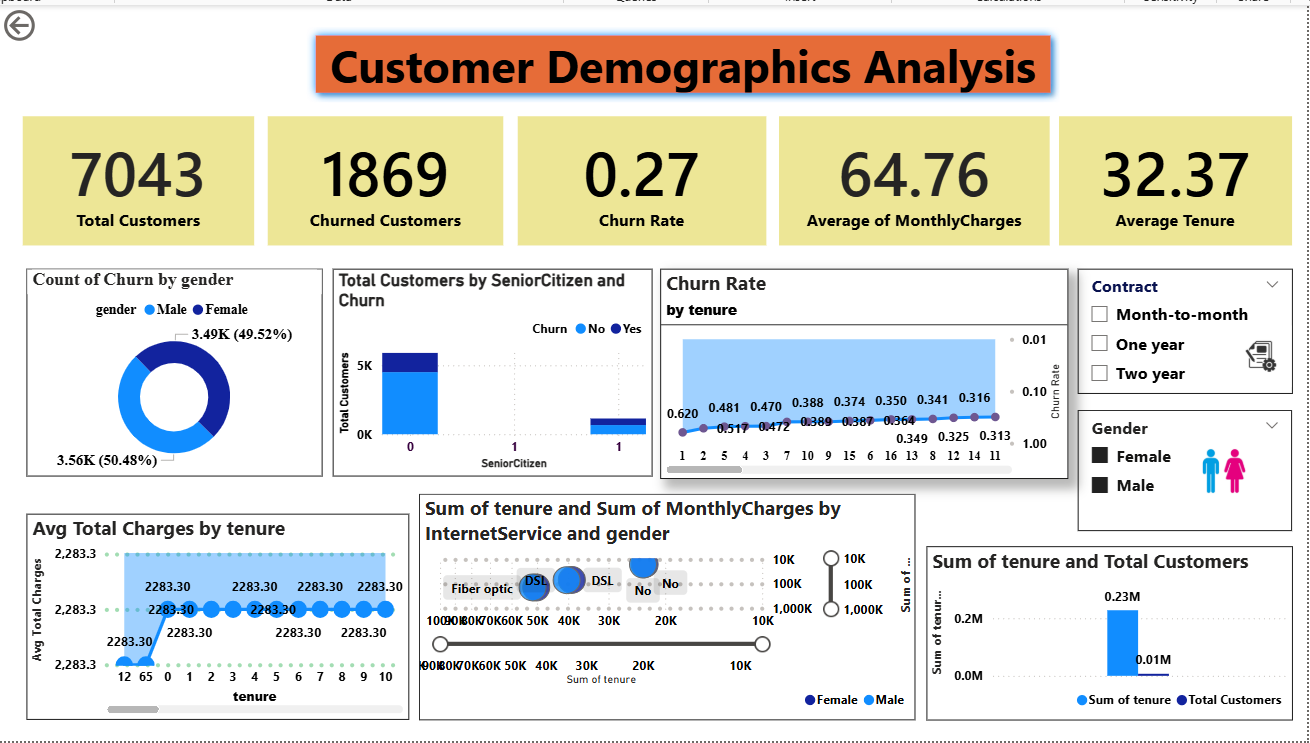

Layout of this report page (visuals, bound fields, positions):
{"tool":"powerbi","page":{"name":"Customer Demographics Analysis","canvas":[1280,720],"ordinal":0},"visuals":[{"type":"actionButton","box":[0,0,100,40],"z":0},{"type":"card","fields":{"Values":["WA_Fn-UseC_-Telco-Customer-Churn.Churned Customers"]},"box":[263.5,108.4,230.5,126.2],"z":1000},{"type":"card","fields":{"Values":["WA_Fn-UseC_-Telco-Customer-Churn.Total Customers"]},"box":[23.3,108.4,226.4,126.2],"z":2000},{"type":"card","fields":{"Values":["WA_Fn-UseC_-Telco-Customer-Churn.Churn Rate"]},"box":[507.7,108.4,242.9,126.2],"z":3000},{"type":"donutChart","fields":{"Category":["WA_Fn-UseC_-Telco-Customer-Churn.gender"],"Y":["CountNonNull(WA_Fn-UseC_-Telco-Customer-Churn.Churn)"]},"box":[27.4,258,289.5,203.1],"z":4000},{"type":"columnChart","fields":{"Category":["WA_Fn-UseC_-Telco-Customer-Churn.SeniorCitizen"],"Series":["WA_Fn-UseC_-Telco-Customer-Churn.Churn"],"Y":["WA_Fn-UseC_-Telco-Customer-Churn.Total Customers"]},"box":[326.6,258,312.9,203.1],"z":5000},{"type":"slicer","fields":{"Values":["WA_Fn-UseC_-Telco-Customer-Churn.gender"]},"box":[1055.2,396.6,209.9,118],"z":6000},{"type":"slicer","fields":{"Values":["WA_Fn-UseC_-Telco-Customer-Churn.Contract"]},"box":[1055.3,258,210.3,122.3],"z":7000},{"type":"clusteredColumnChart","fields":{"Y":["Sum(WA_Fn-UseC_-Telco-Customer-Churn.tenure)","WA_Fn-UseC_-Telco-Customer-Churn.Total Customers"]},"box":[907,529.7,358.1,170.2],"z":8000},{"type":"lineChart","fields":{"Category":["WA_Fn-UseC_-Telco-Customer-Churn.tenure"],"Y2":["WA_Fn-UseC_-Telco-Customer-Churn.Churn Rate"]},"box":[646.3,258,399.3,205.8],"z":9000},{"type":"lineChart","fields":{"Category":["WA_Fn-UseC_-Telco-Customer-Churn.tenure"],"Y":["Avg(WA_Fn-UseC_-Telco-Customer-Churn.Avg Total Charges)"]},"box":[27.4,498.1,374.6,201.7],"z":10000},{"type":"scatterChart","fields":{"X":["Sum(WA_Fn-UseC_-Telco-Customer-Churn.tenure)"],"Y":["Sum(WA_Fn-UseC_-Telco-Customer-Churn.MonthlyCharges)"],"Series":["WA_Fn-UseC_-Telco-Customer-Churn.gender"],"Category":["WA_Fn-UseC_-Telco-Customer-Churn.InternetService"]},"box":[410.9,478.1,485.5,221.3],"z":11000},{"type":"card","fields":{"Values":["Avg(WA_Fn-UseC_-Telco-Customer-Churn.MonthlyCharges)"]},"box":[763,108.4,264.8,126.2],"z":12000},{"type":"card","fields":{"Values":["WA_Fn-UseC_-Telco-Customer-Churn.Average Tenure"]},"box":[1037.4,108.4,227.8,126.2],"z":13000},{"type":"shape","box":[300.5,20.6,736.9,74.1],"z":14000},{"type":"image","box":[1159.5,422.6,78.2,65.9],"z":15000},{"type":"image","box":[1199.3,308.7,70,71.4],"z":16000}]}

Visuals, with their boxes on the page's 1280x720 design canvas (x1, y1, x2, y2). These are canvas units, not pixel positions in the 1310x743 screenshot, which may show the page scaled, cropped or inside an application window:
actionButton: [left=0, top=0, right=100, bottom=40]
card - WA_Fn-UseC_-Telco-Customer-Churn.Churned Customers: [left=264, top=108, right=494, bottom=235]
card - WA_Fn-UseC_-Telco-Customer-Churn.Total Customers: [left=23, top=108, right=250, bottom=235]
card - WA_Fn-UseC_-Telco-Customer-Churn.Churn Rate: [left=508, top=108, right=751, bottom=235]
donutChart - WA_Fn-UseC_-Telco-Customer-Churn.gender x CountNonNull(WA_Fn-UseC_-Telco-Customer-Churn.Churn): [left=27, top=258, right=317, bottom=461]
columnChart - WA_Fn-UseC_-Telco-Customer-Churn.SeniorCitizen x WA_Fn-UseC_-Telco-Customer-Churn.Churn: [left=327, top=258, right=640, bottom=461]
slicer - WA_Fn-UseC_-Telco-Customer-Churn.gender: [left=1055, top=397, right=1265, bottom=515]
slicer - WA_Fn-UseC_-Telco-Customer-Churn.Contract: [left=1055, top=258, right=1266, bottom=380]
clusteredColumnChart - Sum(WA_Fn-UseC_-Telco-Customer-Churn.tenure) x WA_Fn-UseC_-Telco-Customer-Churn.Total Customers: [left=907, top=530, right=1265, bottom=700]
lineChart - WA_Fn-UseC_-Telco-Customer-Churn.tenure x WA_Fn-UseC_-Telco-Customer-Churn.Churn Rate: [left=646, top=258, right=1046, bottom=464]
lineChart - WA_Fn-UseC_-Telco-Customer-Churn.tenure x Avg(WA_Fn-UseC_-Telco-Customer-Churn.Avg Total Charges): [left=27, top=498, right=402, bottom=700]
scatterChart - Sum(WA_Fn-UseC_-Telco-Customer-Churn.tenure) x Sum(WA_Fn-UseC_-Telco-Customer-Churn.MonthlyCharges): [left=411, top=478, right=896, bottom=699]
card - Avg(WA_Fn-UseC_-Telco-Customer-Churn.MonthlyCharges): [left=763, top=108, right=1028, bottom=235]
card - WA_Fn-UseC_-Telco-Customer-Churn.Average Tenure: [left=1037, top=108, right=1265, bottom=235]
shape: [left=300, top=21, right=1037, bottom=95]
image: [left=1160, top=423, right=1238, bottom=488]
image: [left=1199, top=309, right=1269, bottom=380]
